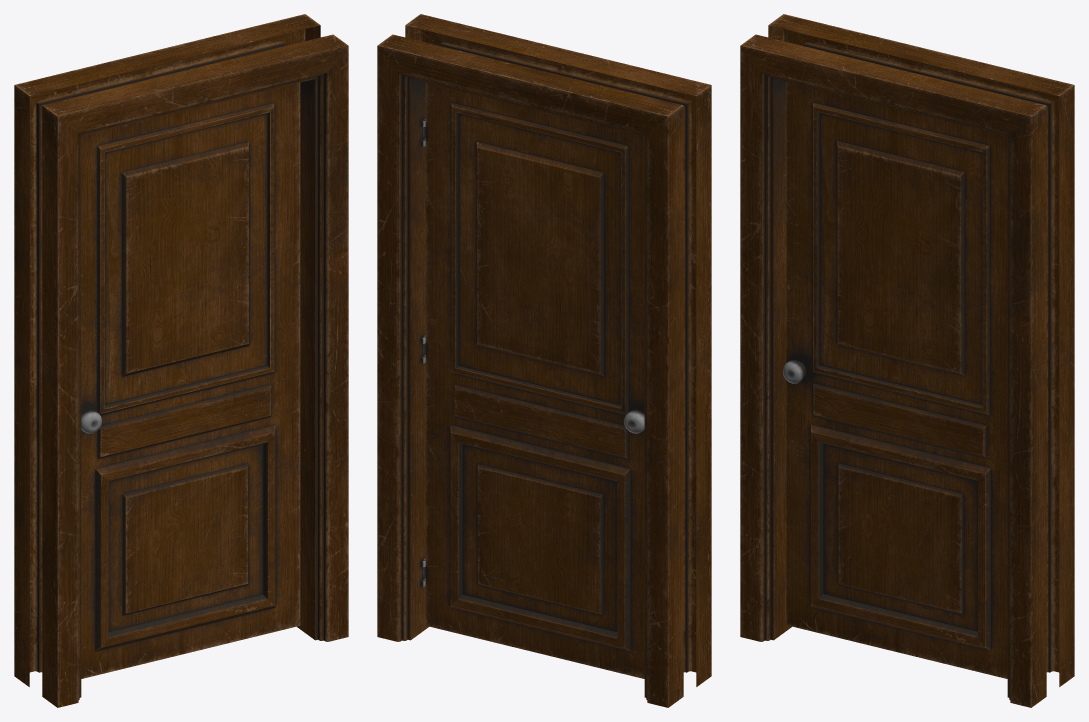
The model's file is door_closed.glb.
3 views of the same model, side by side, from view 1: azimuth 30°, elevation 25°; view 2: azimuth 150°, elevation 25°; view 3: azimuth 330°, elevation 25° (orthographic).
Visible parts, largest first — view 1: door_door_0, F_f_0; view 2: door_door_0, F_f_0; view 3: door_door_0, F_f_0.
Part boxes in pixels (x1,y1,x2,y2): door_door_0: (81, 83, 300, 678); F_f_0: (14, 14, 348, 707); door_door_0: (425, 83, 644, 678); F_f_0: (377, 14, 711, 707); door_door_0: (786, 82, 1007, 678); F_f_0: (740, 14, 1074, 707).
Bounding box in the file's own units: 18.86 × 36.63 × 4.86.
2 materials, 2 textured.
